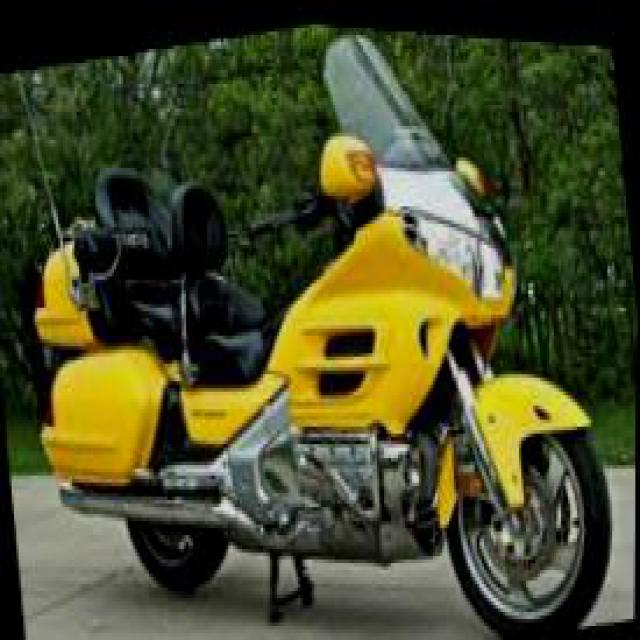Gold Wing: (0, 0, 631, 637)
